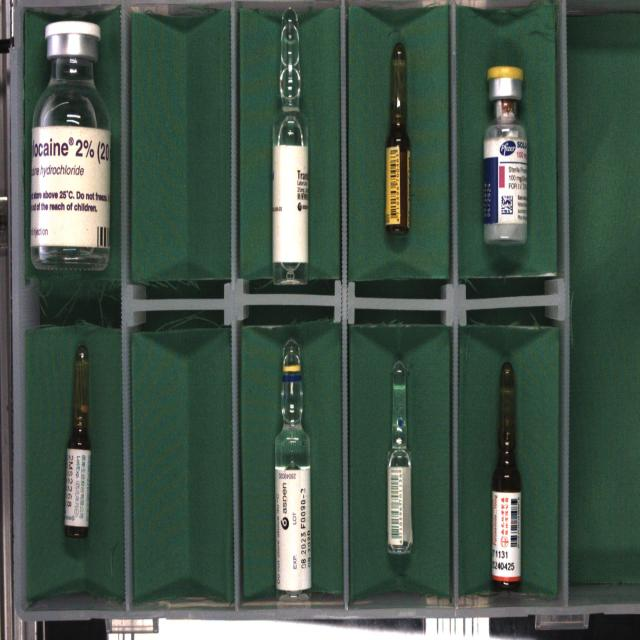Vials: (31, 21, 109, 268), (483, 66, 527, 243)
